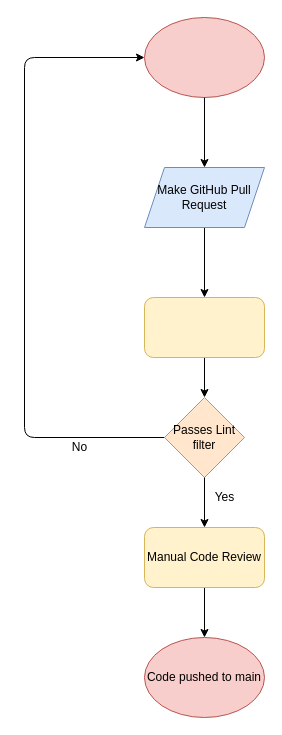
The diagram is 282 pixels wide and 735 high, and some of its shapes have lost their labels. The box of each missing label's shape, as (x1, y1, x2, y2) in pixels:
Development on Local Environment: (144, 16, 264, 98)
Lint checks code from Pull Request: (144, 296, 264, 358)
